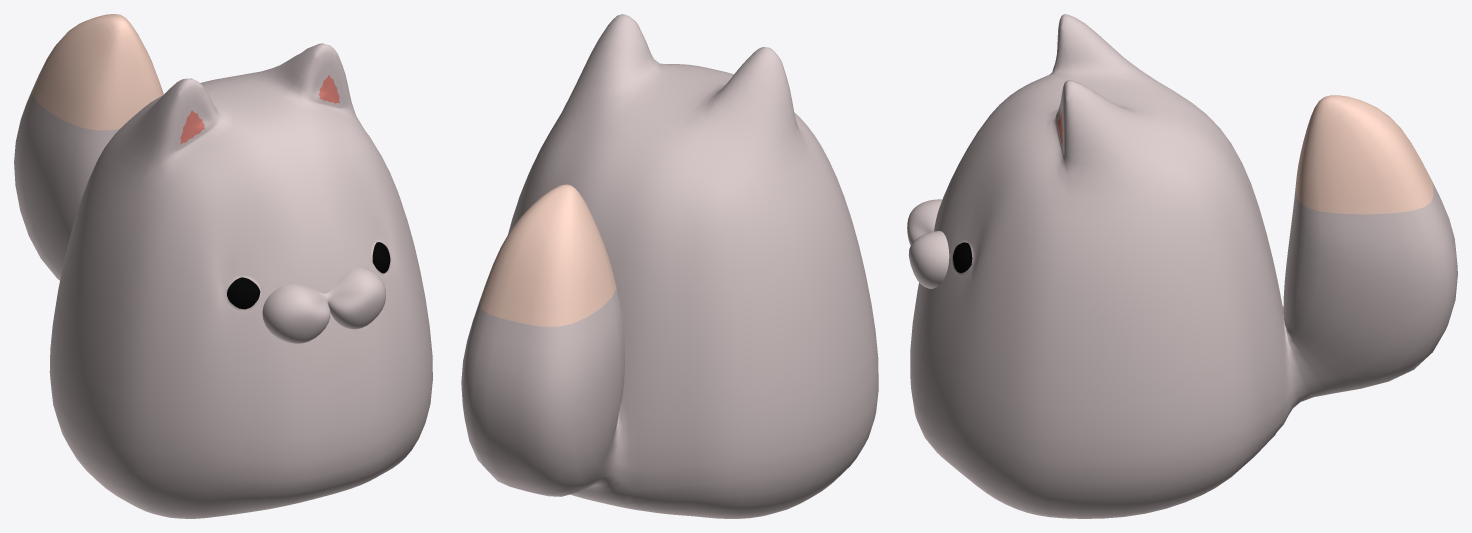
File: test_rabit_white.glb
The picture shows the model from 3 angles, left to right: view 1: azimuth 30°, elevation 25°; view 2: azimuth 150°, elevation 25°; view 3: azimuth 270°, elevation 25°; orthographic projection. The views are drawn at different scales.
Visible parts, largest first — view 1: Cat.001; view 2: Cat.001; view 3: Cat.001.
Part boxes in pixels (bbox=[...]): Cat.001: bbox=[14, 14, 432, 518]; Cat.001: bbox=[461, 14, 878, 518]; Cat.001: bbox=[907, 14, 1457, 518].
Size of the model in its own units: 1.07 by 1.33 by 1.58.
